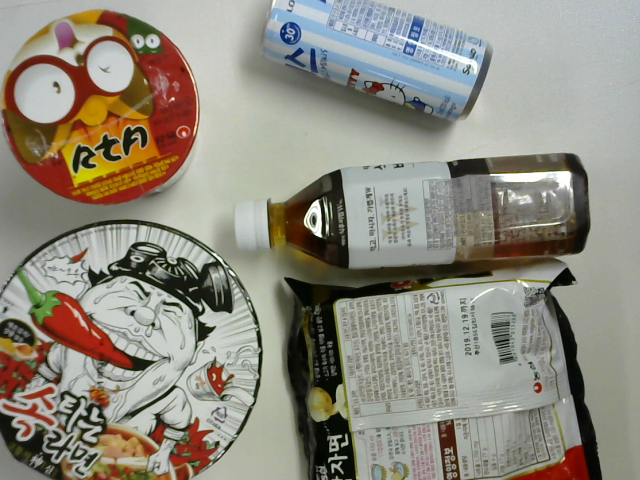HeJangsock: (5, 224, 259, 480)
Milkies_250ml: (261, 4, 497, 126)
Post-meal_recipe_W_tea_500ml: (229, 154, 601, 274)
Potato: (279, 268, 613, 480)
Raccoon: (5, 14, 197, 200)
